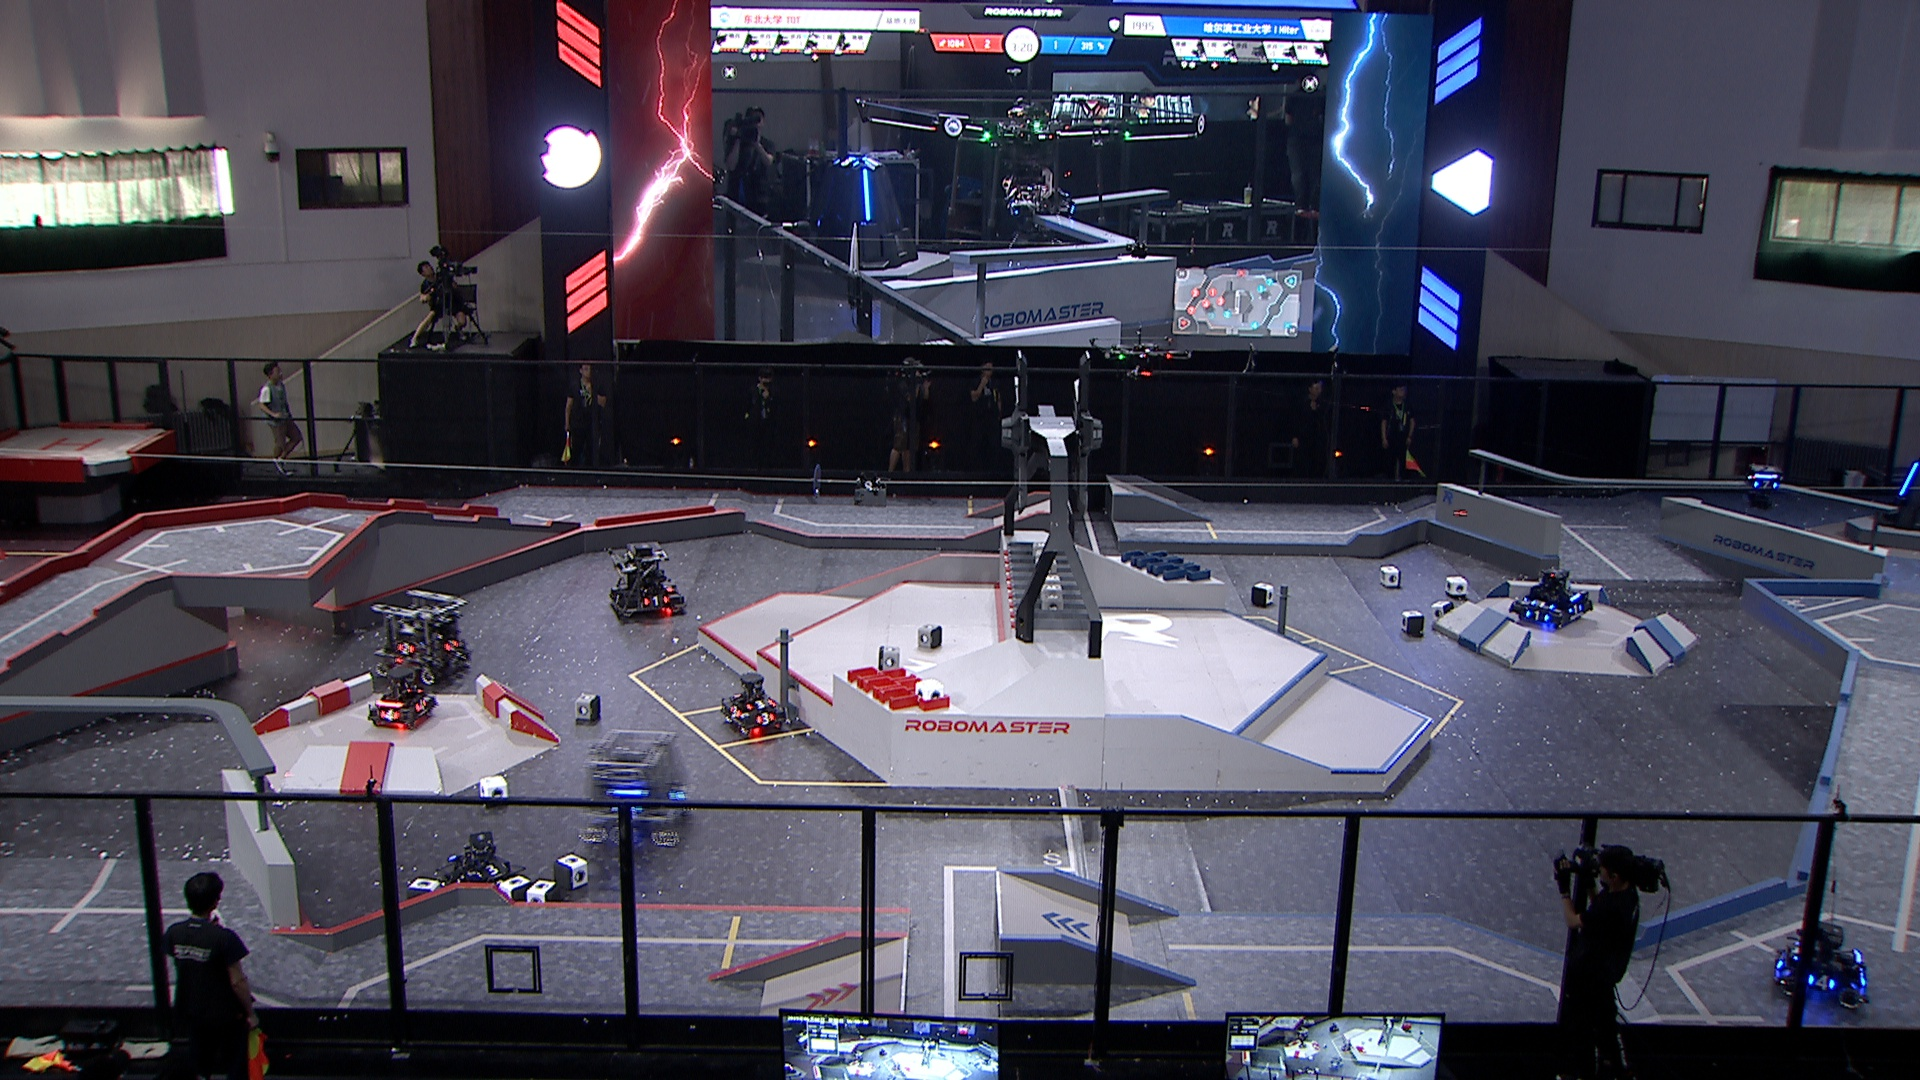armor: (1899, 458, 1920, 495), (479, 858, 508, 880), (1809, 975, 1836, 992), (377, 707, 400, 721), (1754, 476, 1775, 491), (646, 593, 667, 608), (1527, 608, 1548, 622), (746, 698, 771, 709), (1789, 936, 1803, 957), (728, 704, 744, 721), (398, 641, 415, 655), (609, 591, 624, 608), (756, 712, 774, 725), (1532, 597, 1552, 609), (444, 637, 460, 651), (657, 582, 674, 593), (1569, 603, 1582, 616), (415, 700, 427, 713)
base: (1870, 450, 1920, 537)
car: (575, 728, 698, 845), (371, 588, 473, 687), (1768, 918, 1874, 1011), (603, 541, 694, 629), (1510, 564, 1596, 633), (721, 671, 793, 745), (436, 829, 517, 891), (367, 666, 436, 735)
ignore: (799, 154, 916, 276), (1002, 175, 1091, 243)
watcher: (1741, 458, 1789, 508)
